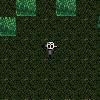Jason: (41, 41, 59, 59)
Slow: (16, 0, 36, 16), (0, 17, 16, 36), (57, 0, 76, 16)
